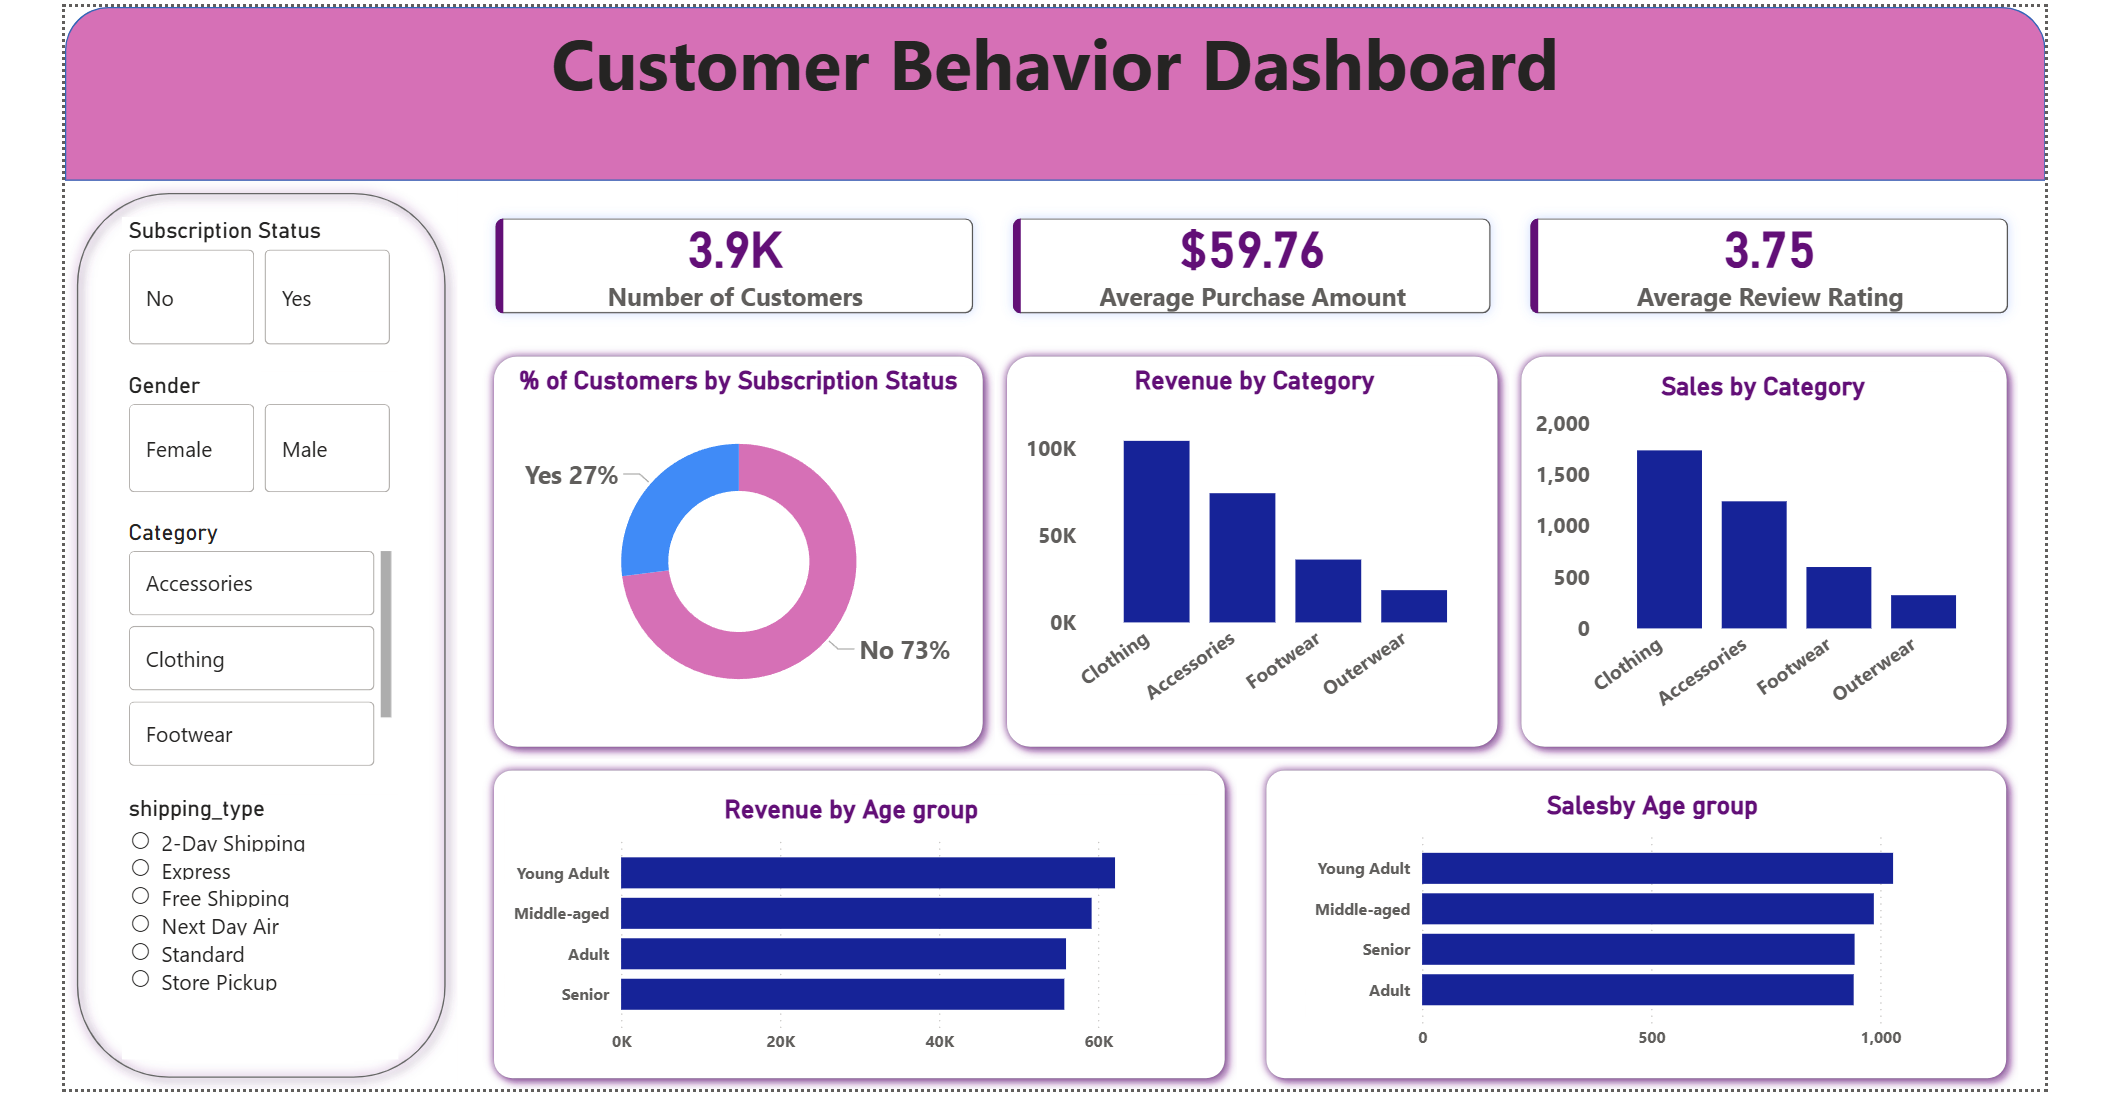

This screenshot's page, from the dashboard's own definition file:
{"tool":"powerbi","page":{"name":"Page 1","canvas":[1500,820],"ordinal":0},"visuals":[{"type":"cardVisual","fields":{"Data":["customer_behavior customer.Number of Customers","customer_behavior customer.Average Purchase Amount","customer_behavior customer.Average Review Rating"]},"box":[297.4,131.7,1203.1,129],"z":0},{"type":"shape","box":[0,0,1500.5,131.7],"z":1000},{"type":"textbox","box":[0,0,1500.5,131.7],"z":2000},{"type":"shape","box":[316.4,255.3,388.4,313.7],"z":3000},{"type":"donutChart","title":"% of Customers by Subscription  Status","fields":{"Category":["customer_behavior customer.subscription_status"],"Y":["CountNonNull(customer_behavior customer.customer_id)"]},"box":[330,271.6,361.2,274.3],"z":4000},{"type":"shape","box":[1094.5,255.3,385.6,313.7],"z":5000},{"type":"shape","box":[704.7,255.3,389.7,313.7],"z":6000},{"type":"clusteredColumnChart","title":"Revenue by Category","fields":{"Y":["Sum(customer_behavior customer.purchase_amount)"],"Category":["customer_behavior customer.category"]},"box":[722.4,271.6,357.1,274.3],"z":7000},{"type":"clusteredColumnChart","title":"Sales by Category","fields":{"Category":["customer_behavior customer.category"],"Y":["CountNonNull(customer_behavior customer.customer_id)"]},"box":[1108,275.7,357.1,274.3],"z":8000},{"type":"shape","box":[0,131.7,297.4,688.4],"z":9000},{"type":"advancedSlicerVisual","fields":{"Values":["customer_behavior customer.subscription_status"]},"box":[43.5,158.9,209.1,101.8],"z":9001},{"type":"advancedSlicerVisual","fields":{"Values":["customer_behavior customer.gender"]},"box":[43.5,275.7,209.1,96.4],"z":9002},{"type":"advancedSlicerVisual","fields":{"Values":["customer_behavior customer.category"]},"box":[43.5,387,209.1,194.2],"z":9003},{"type":"listSlicer","fields":{"Values":["customer_behavior customer.shipping_type"]},"box":[43.5,596.1,209.1,201],"z":9004},{"type":"shape","box":[316.4,569,571.7,251.2],"z":9005},{"type":"clusteredBarChart","title":"Revenue by Age group","fields":{"Y":["Sum(customer_behavior customer.purchase_amount)"],"Category":["customer_behavior customer.age_group"]},"box":[332.7,596.1,525.5,205],"z":9006},{"type":"shape","box":[901.6,569,578.5,251.2],"z":9007},{"type":"clusteredBarChart","title":"Salesby Age group","fields":{"Y":["CountNonNull(customer_behavior customer.customer_id)"],"Category":["customer_behavior customer.age_group"]},"box":[939.7,593.4,525.5,205],"z":9008}]}

Visuals, with their boxes on the page's 1500x820 design canvas (x1, y1, x2, y2). These are canvas units, not pixel positions in the 2111x1120 screenshot, which may show the page scaled, cropped or inside an application window:
cardVisual - customer_behavior customer.Number of Customers x customer_behavior customer.Average Purchase Amount: <bbox>297, 132, 1500, 261</bbox>
shape: <bbox>0, 0, 1500, 132</bbox>
textbox: <bbox>0, 0, 1500, 132</bbox>
shape: <bbox>316, 255, 705, 569</bbox>
"% of Customers by Subscription  Status" donutChart: <bbox>330, 272, 691, 546</bbox>
shape: <bbox>1094, 255, 1480, 569</bbox>
shape: <bbox>705, 255, 1094, 569</bbox>
"Revenue by Category" clusteredColumnChart: <bbox>722, 272, 1080, 546</bbox>
"Sales by Category" clusteredColumnChart: <bbox>1108, 276, 1465, 550</bbox>
shape: <bbox>0, 132, 297, 820</bbox>
advancedSlicerVisual - customer_behavior customer.subscription_status: <bbox>44, 159, 253, 261</bbox>
advancedSlicerVisual - customer_behavior customer.gender: <bbox>44, 276, 253, 372</bbox>
advancedSlicerVisual - customer_behavior customer.category: <bbox>44, 387, 253, 581</bbox>
listSlicer - customer_behavior customer.shipping_type: <bbox>44, 596, 253, 797</bbox>
shape: <bbox>316, 569, 888, 820</bbox>
"Revenue by Age group" clusteredBarChart: <bbox>333, 596, 858, 801</bbox>
shape: <bbox>902, 569, 1480, 820</bbox>
"Salesby Age group" clusteredBarChart: <bbox>940, 593, 1465, 798</bbox>
